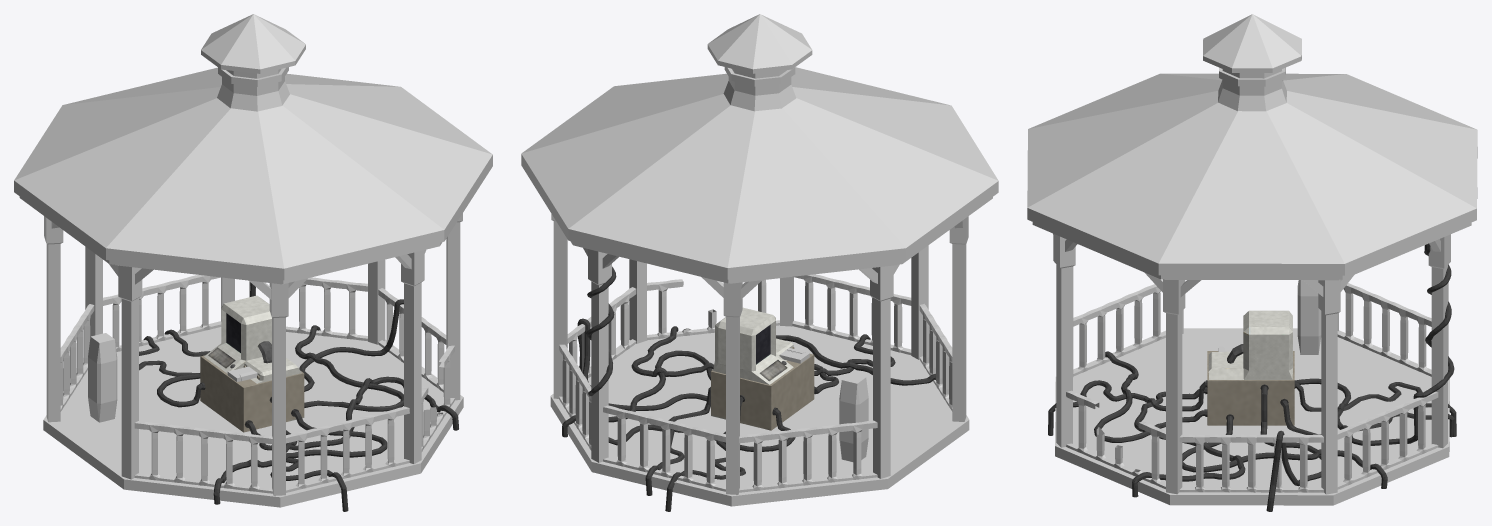
Rendered from Terminal.fbx.
3 views of the same model, side by side, from view 1: azimuth 30°, elevation 25°; view 2: azimuth 150°, elevation 25°; view 3: azimuth 270°, elevation 25° (orthographic).
Parts seen in each view (by area): view 1: gazebo, torus, Terminal, beveled_cuboid, PlayerHeight; view 2: gazebo, torus, Terminal, beveled_cuboid, PlayerHeight; view 3: gazebo, torus, beveled_cuboid, Terminal, PlayerHeight.
Part boxes in pixels (<box>): gazebo: <box>14,14,492,507</box>; torus: <box>139,282,458,511</box>; Terminal: <box>200,355,304,432</box>; beveled_cuboid: <box>204,295,301,383</box>; PlayerHeight: <box>88,333,117,422</box>; gazebo: <box>521,14,998,506</box>; torus: <box>562,266,935,511</box>; Terminal: <box>711,353,814,430</box>; beveled_cuboid: <box>713,307,793,384</box>; PlayerHeight: <box>839,373,868,461</box>; gazebo: <box>1027,14,1477,505</box>; torus: <box>1048,243,1456,511</box>; beveled_cuboid: <box>1208,310,1292,379</box>; Terminal: <box>1207,351,1294,425</box>; PlayerHeight: <box>1297,280,1321,354</box>.
Size of the model in its own units: 1875 by 1958 by 1875.
2 materials, 2 textured.
